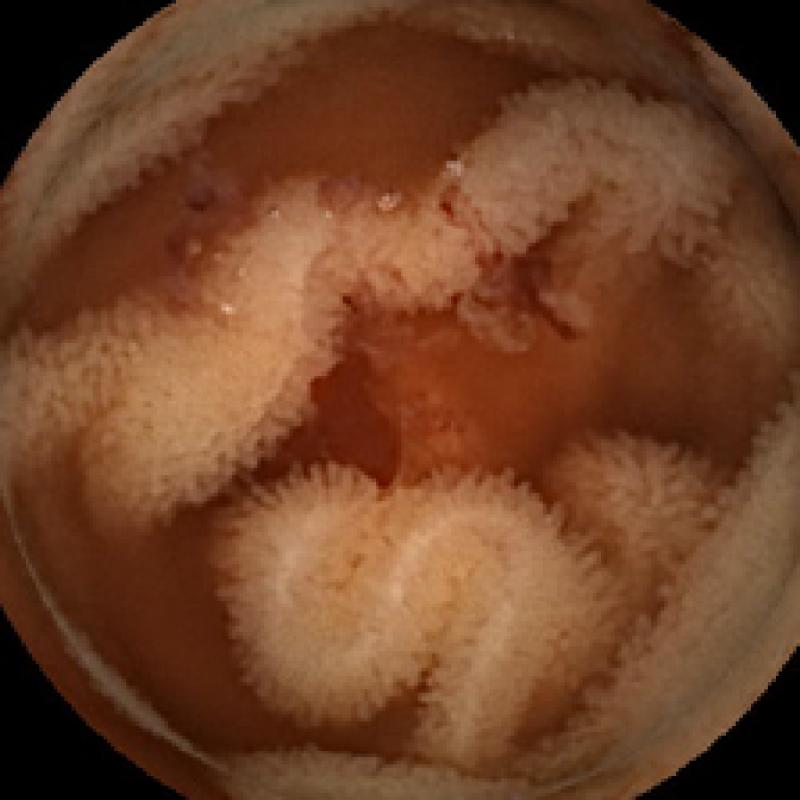bleeding: (443, 186, 582, 343), (306, 342, 405, 499)
